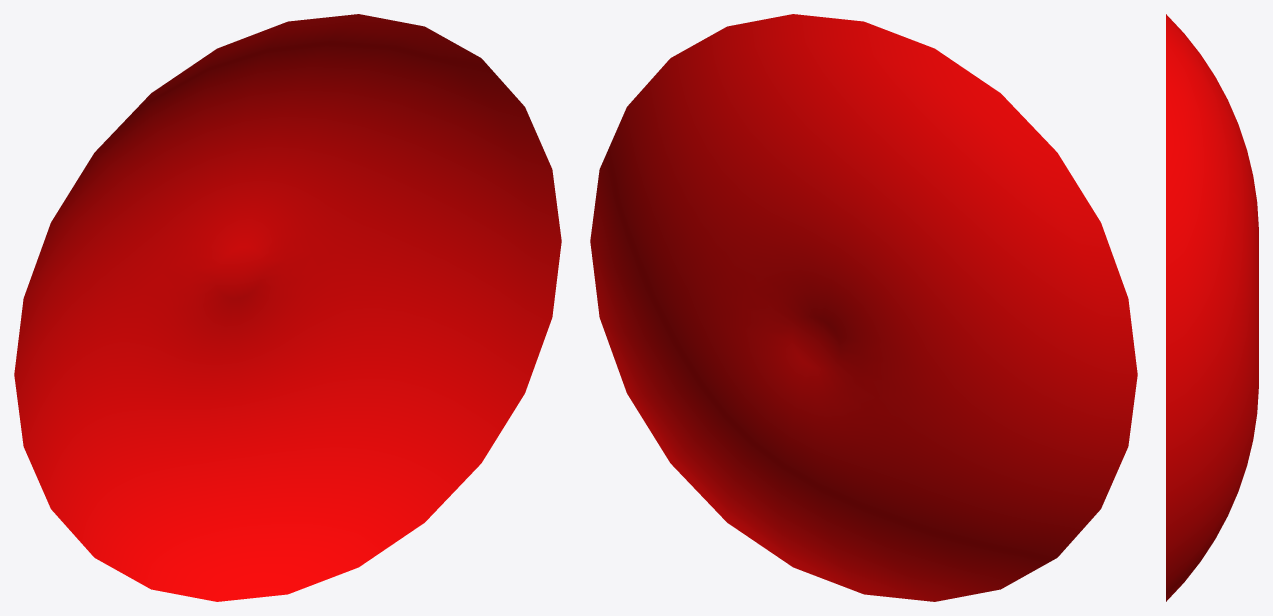
The model's file is original-35.obj.
3 renders of one model, left to right at view 1: azimuth 30°, elevation 25°; view 2: azimuth 150°, elevation 25°; view 3: azimuth 270°, elevation 25°, orthographic. The views are drawn at different scales.
Visible parts, largest first — view 1: mesh42/mesh42-geometry/material_0/component_6#mesh42-geometry; view 2: mesh42/mesh42-geometry/material_0/component_6#mesh42-geometry; view 3: mesh42/mesh42-geometry/material_0/component_6#mesh42-geometry.
Boxes of the visible parts, x1,y1,x2,y2 form: mesh42/mesh42-geometry/material_0/component_6#mesh42-geometry: (14,14,561,601); mesh42/mesh42-geometry/material_0/component_6#mesh42-geometry: (590,14,1137,601); mesh42/mesh42-geometry/material_0/component_6#mesh42-geometry: (1166,14,1258,601).
Bounding box in the file's own units: 0.0971 × 0.0971 × 0.0153.
